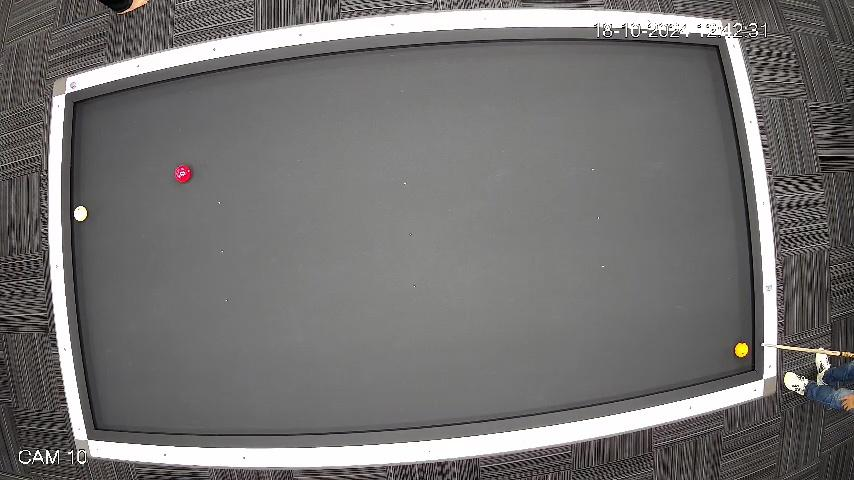Red: (173, 164, 194, 184)
White: (72, 205, 88, 224)
Yellow: (734, 342, 749, 358)
